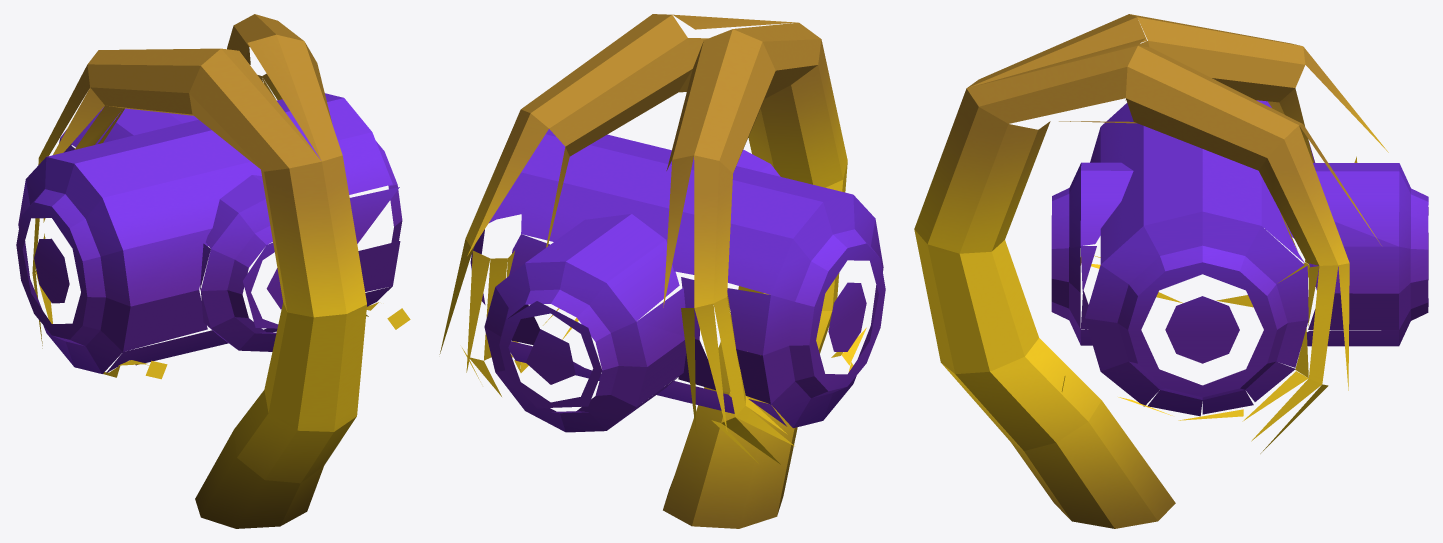
The model's file is BigBush.glb.
The picture shows the model from 3 angles, left to right: view 1: azimuth 30°, elevation 25°; view 2: azimuth 150°, elevation 25°; view 3: azimuth 270°, elevation 25°; orthographic projection. The views are drawn at different scales.
Visible parts, largest first — view 1: Bush; view 2: Bush; view 3: Bush.
Boxes of the visible parts, x1,y1,x2,y2 form: Bush: (16, 14, 410, 528); Bush: (439, 14, 885, 528); Bush: (914, 14, 1428, 528).
Bounding box in the file's own units: 2.04 × 2.75 × 2.7.
1 material, 1 textured.
